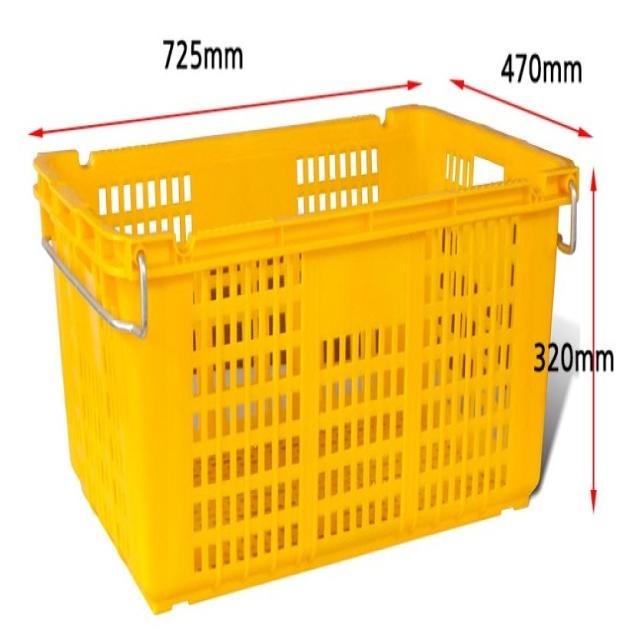basket: (30, 84, 629, 620)
